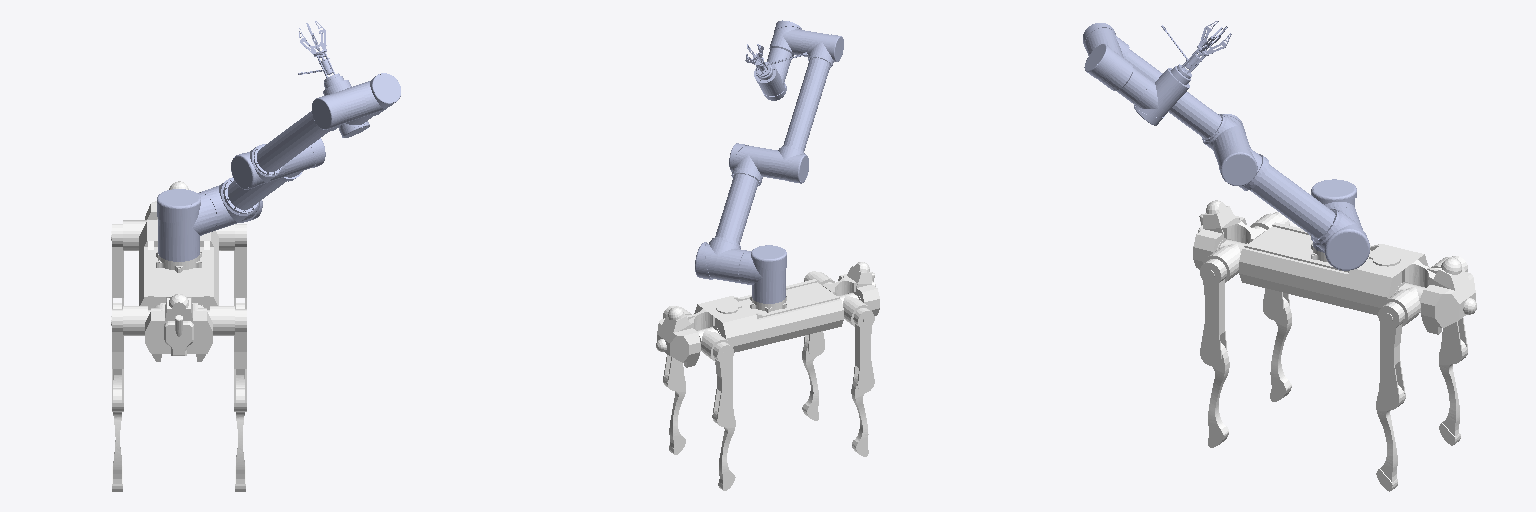
robot.urdf — robot_arm_urdf:
<?xml version="1.0" encoding="utf-8" ?>
<!-- This URDF was automatically created by SolidWorks to URDF Exporter! Originally created by [author] ([email redacted]) 
     Commit Version: 1.5.1-0-g916b5db  Build Version: 1.5.7152.31018
     For more information, please see http://wiki.ros.org/sw_urdf_exporter -->
<robot name="robot_arm_urdf">
    <link name="world" />
    <joint name="base_joint" type="fixed">
        <parent link="world" />
        <child link="base_link" />
        <origin rpy="0 0 0" xyz="0.0 0.0 0.645" />
    </joint>
    <link name="base_link">
        <inertial>
            <origin xyz="0.00463549050506396 0.00802894976303107 -0.0799989367825155" rpy="0 0 0" />
            <mass value="28.6396598553797" />
            <inertia ixx="1.02069631007624" ixy="-0.492380659270409" ixz="-0.00403449266966304" iyy="0.452146905353567" iyz="-0.00698808629788684" izz="1.31772643210549" />
        </inertial>
        <visual>
            <origin xyz="0 0 0" rpy="0 0 0" />
            <geometry>
                <mesh filename="package://dog_base_urdf/meshes/base_link.STL" />
            </geometry>
            <material name="">
                <color rgba="1 1 1 1" />
            </material>
        </visual>
        <collision>
            <origin xyz="0 0 0" rpy="0 0 0" />
            <geometry>
                <mesh filename="package://dog_base_urdf/meshes/base_link.STL" />
            </geometry>
        </collision>
    </link>
    <link name="Link 1">
        <inertial>
            <origin xyz="3.33520935188146E-07 -0.0968009304866043 0.0135223150198269" rpy="0 0 0" />
            <mass value="1.40763351783196" />
            <inertia ixx="0.00392104741727282" ixy="1.03862730576969E-09" ixz="1.08880850533538E-08" iyy="0.00434025802310385" iyz="0.000711708546028714" izz="0.0035132992023998" />
        </inertial>
        <visual>
            <origin xyz="0 0 0" rpy="0 0 0" />
            <geometry>
                <mesh filename="package://dog_base_urdf/meshes/Link 1.STL" />
            </geometry>
            <material name="">
                <color rgba="0.792156862745098 0.819607843137255 0.933333333333333 1" />
            </material>
        </visual>
        <collision>
            <origin xyz="0 0 0" rpy="0 0 0" />
            <geometry>
                <mesh filename="package://dog_base_urdf/meshes/Link 1.STL" />
            </geometry>
        </collision>
    </link>
    <joint name="joint_1" type="revolute">
        <origin xyz="0 0 0.005" rpy="-1.5708 0 -1.4211" />
        <parent link="base_link" />
        <child link="Link 1" />
        <axis xyz="0 -1 0" />
        <limit lower="-3.142" upper="3.142" effort="300" velocity="3" />
    </joint>
    <link name="Link 2">
        <inertial>
            <origin xyz="0.174797274389215 -5.10638520982848E-05 -0.18667333888139" rpy="0 0 0" />
            <mass value="3.3150565529027" />
            <inertia ixx="0.011664983095439" ixy="-1.94138227168229E-07" ixz="0.000135097460897044" iyy="0.0103207289923811" iyz="6.54641658356166E-07" izz="0.00624129547998892" />
        </inertial>
        <visual>
            <origin xyz="0 0 0" rpy="0 0 0" />
            <geometry>
                <mesh filename="package://dog_base_urdf/meshes/Link 2.STL" />
            </geometry>
            <material name="">
                <color rgba="0.792156862745098 0.819607843137255 0.933333333333333 1" />
            </material>
        </visual>
        <collision>
            <origin xyz="0 0 0" rpy="0 0 0" />
            <geometry>
                <mesh filename="package://dog_base_urdf/meshes/Link 2.STL" />
            </geometry>
        </collision>
    </link>
    <joint name="joint_2" type="revolute">
        <origin xyz="0 -0.135 0" rpy="-2.71599956230961 -1.57079631189374 1.99638941807508" />
        <parent link="Link 1" />
        <child link="Link 2" />
        <axis xyz="-1 0 0" />
        <limit lower="-0.771" upper="2.371" effort="300" velocity="3" />
    </joint>
    <link name="Link 3">
        <inertial>
            <origin xyz="1.09860416124541E-05 -0.0656680321597432 0.332352175325836" rpy="0 0 0" />
            <mass value="1.58685560943064" />
            <inertia ixx="0.0068191644858142" ixy="4.7596436871444E-08" ixz="4.93892713481034E-07" iyy="0.00725727608542517" iyz="-5.82444241490415E-06" izz="0.00243782223553962" />
        </inertial>
        <visual>
            <origin xyz="0 0 0" rpy="0 0 0" />
            <geometry>
                <mesh filename="package://dog_base_urdf/meshes/Link 3.STL" />
            </geometry>
            <material name="">
                <color rgba="0.792156862745098 0.819607843137255 0.933333333333333 1" />
            </material>
        </visual>
        <collision>
            <origin xyz="0 0 0" rpy="0 0 0" />
            <geometry>
                <mesh filename="package://dog_base_urdf/meshes/Link 3.STL" />
            </geometry>
        </collision>
    </link>
    <joint name="joint_3" type="revolute">
        <origin xyz="0 0 -0.444" rpy="3.14159265358979 0 -1.57079632679489" />
        <parent link="Link 2" />
        <child link="Link 3" />
        <axis xyz="0 1 0" />
        <limit lower="-2.356" upper="2.356" effort="300" velocity="3" />
    </joint>
    <link name="Link 4">
        <inertial>
            <origin xyz="-4.918788642614E-05 -0.0478569052642419 0.124969704110837" rpy="0 0 0" />
            <mass value="0.884734542053465" />
            <inertia ixx="0.00198465131450543" ixy="-2.65685877792114E-08" ixz="-8.78889110698532E-07" iyy="0.00155855642278158" iyz="0.000386330199695111" izz="0.00171304022040207" />
        </inertial>
        <visual>
            <origin xyz="0 0 0" rpy="0 0 0" />
            <geometry>
                <mesh filename="package://dog_base_urdf/meshes/Link 4.STL" />
            </geometry>
            <material name="">
                <color rgba="0.792156862745098 0.819607843137255 0.933333333333333 1" />
            </material>
        </visual>
        <collision>
            <origin xyz="0 0 0" rpy="0 0 0" />
            <geometry>
                <mesh filename="package://dog_base_urdf/meshes/Link 4.STL" />
            </geometry>
        </collision>
    </link>
    <joint name="joint_4" type="revolute">
        <origin xyz="0 -0.0807901393343303 0.518000000000001" rpy="1.5707963267949 0 0" />
        <parent link="Link 3" />
        <child link="Link 4" />
        <axis xyz="0 0 1" />
        <limit lower="-3.142" upper="3.142" effort="300" velocity="3" />
    </joint>
    <link name="Link 5">
        <inertial>
            <origin xyz="-2.62083069515473E-05 0.040228879396309 -0.0634725711030624" rpy="0 0 0" />
            <mass value="0.911162528218986" />
            <inertia ixx="0.00106086896499636" ixy="2.25269663932316E-08" ixz="-5.50415020926981E-07" iyy="0.00116131786684072" iyz="0.00015470722075745" izz="0.000949606910708702" />
        </inertial>
        <visual>
            <origin xyz="0 0 0" rpy="0 0 0" />
            <geometry>
                <mesh filename="package://dog_base_urdf/meshes/Link 5.STL" />
            </geometry>
            <material name="">
                <color rgba="0.792156862745098 0.819607843137255 0.933333333333333 1" />
            </material>
        </visual>
        <collision>
            <origin xyz="0 0 0" rpy="0 0 0" />
            <geometry>
                <mesh filename="package://dog_base_urdf/meshes/Link 5.STL" />
            </geometry>
        </collision>
    </link>
    <joint name="joint_5" type="revolute">
        <origin xyz="0 -0.12 0.135209860665665" rpy="-1.5707963267949 -1.57079630572147 0" />
        <parent link="Link 4" />
        <child link="Link 5" />
        <axis xyz="0 0 1" />
        <limit lower="-3.142" upper="3.142" effort="300" velocity="3" />
    </joint>
    <link name="Link 6">
        <inertial>
            <origin xyz="-0.00118020585558504 -0.0159149719261033 -0.00342180205165366" rpy="0 0 0" />
            <mass value="0.0733987958077739" />
            <inertia ixx="1.1380006467328E-05" ixy="9.25558899499417E-07" ixz="1.10405515931789E-06" iyy="1.57214863593949E-05" iyz="-4.47111004898457E-08" izz="1.46442413687236E-05" />
        </inertial>
        <visual>
            <origin xyz="0 0 0" rpy="0 0 0" />
            <geometry>
                <mesh filename="package://dog_base_urdf/meshes/Link 6.STL" />
            </geometry>
            <material name="">
                <color rgba="0.792156862745098 0.819607843137255 0.933333333333333 1" />
            </material>
        </visual>
        <collision>
            <origin xyz="0 0 0" rpy="0 0 0" />
            <geometry>
                <mesh filename="package://dog_base_urdf/meshes/Link 6.STL" />
            </geometry>
        </collision>
    </link>
    <joint name="joint_6" type="revolute">
        <origin xyz="0 0.180208975073821 -0.07" rpy="-0.372282107337962 -0.687462882680538 -2.83257743809968" />
        <parent link="Link 5" />
        <child link="Link 6" />
        <axis xyz="-0.235042225926605 -0.957575831382436 -0.16674435277905" />
        <limit lower="-3.142" upper="3.142" effort="300" velocity="3" />
    </joint>
    <transmission name="link_1_trans">
        <type>transmission_interface/SimpleTransmission</type>
        <joint name="joint_1">
            <hardwareInterface>hardware_interface/PositionJointInterface</hardwareInterface>
        </joint>
        <actuator name="link_1_motor">
            <hardwareInterface>hardware_interface/PositionJointInterface</hardwareInterface>
            <mechanicalReduction>1</mechanicalReduction>
        </actuator>
    </transmission>
    <transmission name="link_2_trans">
        <type>transmission_interface/SimpleTransmission</type>
        <joint name="joint_2">
            <hardwareInterface>hardware_interface/PositionJointInterface</hardwareInterface>
        </joint>
        <actuator name="link_2_motor">
            <hardwareInterface>hardware_interface/PositionJointInterface</hardwareInterface>
            <mechanicalReduction>1</mechanicalReduction>
        </actuator>
    </transmission>
    <transmission name="link_3_trans">
        <type>transmission_interface/SimpleTransmission</type>
        <joint name="joint_3">
            <hardwareInterface>hardware_interface/PositionJointInterface</hardwareInterface>
        </joint>
        <actuator name="link_3_motor">
            <hardwareInterface>hardware_interface/PositionJointInterface</hardwareInterface>
            <mechanicalReduction>1</mechanicalReduction>
        </actuator>
    </transmission>
    <transmission name="link_4_trans">
        <type>transmission_interface/SimpleTransmission</type>
        <joint name="joint_4">
            <hardwareInterface>hardware_interface/PositionJointInterface</hardwareInterface>
        </joint>
        <actuator name="link_4_motor">
            <hardwareInterface>hardware_interface/PositionJointInterface</hardwareInterface>
            <mechanicalReduction>1</mechanicalReduction>
        </actuator>
    </transmission>
    <transmission name="link_5_trans">
        <type>transmission_interface/SimpleTransmission</type>
        <joint name="joint_5">
            <hardwareInterface>hardware_interface/PositionJointInterface</hardwareInterface>
        </joint>
        <actuator name="link_5_motor">
            <hardwareInterface>hardware_interface/PositionJointInterface</hardwareInterface>
            <mechanicalReduction>1</mechanicalReduction>
        </actuator>
    </transmission>
    <transmission name="link_6_trans">
        <type>transmission_interface/SimpleTransmission</type>
        <joint name="joint_6">
            <hardwareInterface>hardware_interface/PositionJointInterface</hardwareInterface>
        </joint>
        <actuator name="link_6_motor">
            <hardwareInterface>hardware_interface/PositionJointInterface</hardwareInterface>
            <mechanicalReduction>1</mechanicalReduction>
        </actuator>
    </transmission>
    <gazebo>
        <plugin name="control" filename="libgazebo_ros_control.so">
            <robotNamespace>/</robotNamespace>
        </plugin>
        <plugin name="gazebo_ros_control" filename="libgazebo_ros_control.so">
            <robotNamespace>/</robotNamespace>
        </plugin>
    </gazebo>
    <gazebo reference="Link 1">
        <selfCollide>true</selfCollide>
    </gazebo>
    <gazebo reference="Link 2">
        <selfCollide>true</selfCollide>
    </gazebo>
    <gazebo reference="Link 3">
        <selfCollide>true</selfCollide>
    </gazebo>
    <gazebo reference="Link 4">
        <selfCollide>true</selfCollide>
    </gazebo>
    <gazebo reference="Link 5">
        <selfCollide>true</selfCollide>
    </gazebo>
    <gazebo reference="Link 6">
        <selfCollide>true</selfCollide>
    </gazebo>
</robot>

--- Facts derived from the render (not from the file) ---
The picture shows the robot from 3 angles, left to right: view 1: azimuth 30°, elevation 25°; view 2: azimuth 150°, elevation 25°; view 3: azimuth 270°, elevation 25°; orthographic projection.
Robot: robot_arm_urdf — 8 links, 7 joints (6 revolute, 1 fixed); root link world; default pose: every joint at zero.
Visible links, largest first — view 1: base_link, Link 3, Link 1, Link 2, Link 4, Link 5, Link 6; view 2: base_link, Link 2, Link 3, Link 1, Link 4, Link 5; view 3: base_link, Link 2, Link 3, Link 4, Link 5, Link 1, Link 6.
Link boxes in pixels (x1=…): base_link: x1=111, y1=181, x2=246, y2=491; Link 3: x1=231, y1=87, x2=366, y2=189; Link 1: x1=157, y1=189, x2=216, y2=261; Link 2: x1=199, y1=138, x2=325, y2=231; Link 4: x1=353, y1=73, x2=400, y2=121; Link 5: x1=323, y1=76, x2=369, y2=137; Link 6: x1=298, y1=21, x2=339, y2=82; base_link: x1=656, y1=262, x2=879, y2=490; Link 2: x1=695, y1=143, x2=774, y2=282; Link 3: x1=769, y1=31, x2=843, y2=183; Link 1: x1=739, y1=245, x2=786, y2=303; Link 4: x1=767, y1=20, x2=805, y2=69; Link 5: x1=754, y1=62, x2=787, y2=100; base_link: x1=1193, y1=200, x2=1476, y2=491; Link 2: x1=1214, y1=131, x2=1369, y2=270; Link 3: x1=1083, y1=23, x2=1247, y2=150; Link 4: x1=1084, y1=42, x2=1148, y2=101; Link 5: x1=1131, y1=66, x2=1190, y2=125; Link 1: x1=1311, y1=179, x2=1358, y2=252; Link 6: x1=1161, y1=21, x2=1231, y2=78.
Size in the robot's own frame: 0.7371 by 1.2 by 1.55 metres.
Meshes: 7 distinct files referenced, 7 mesh visuals loaded (7 binary STL).